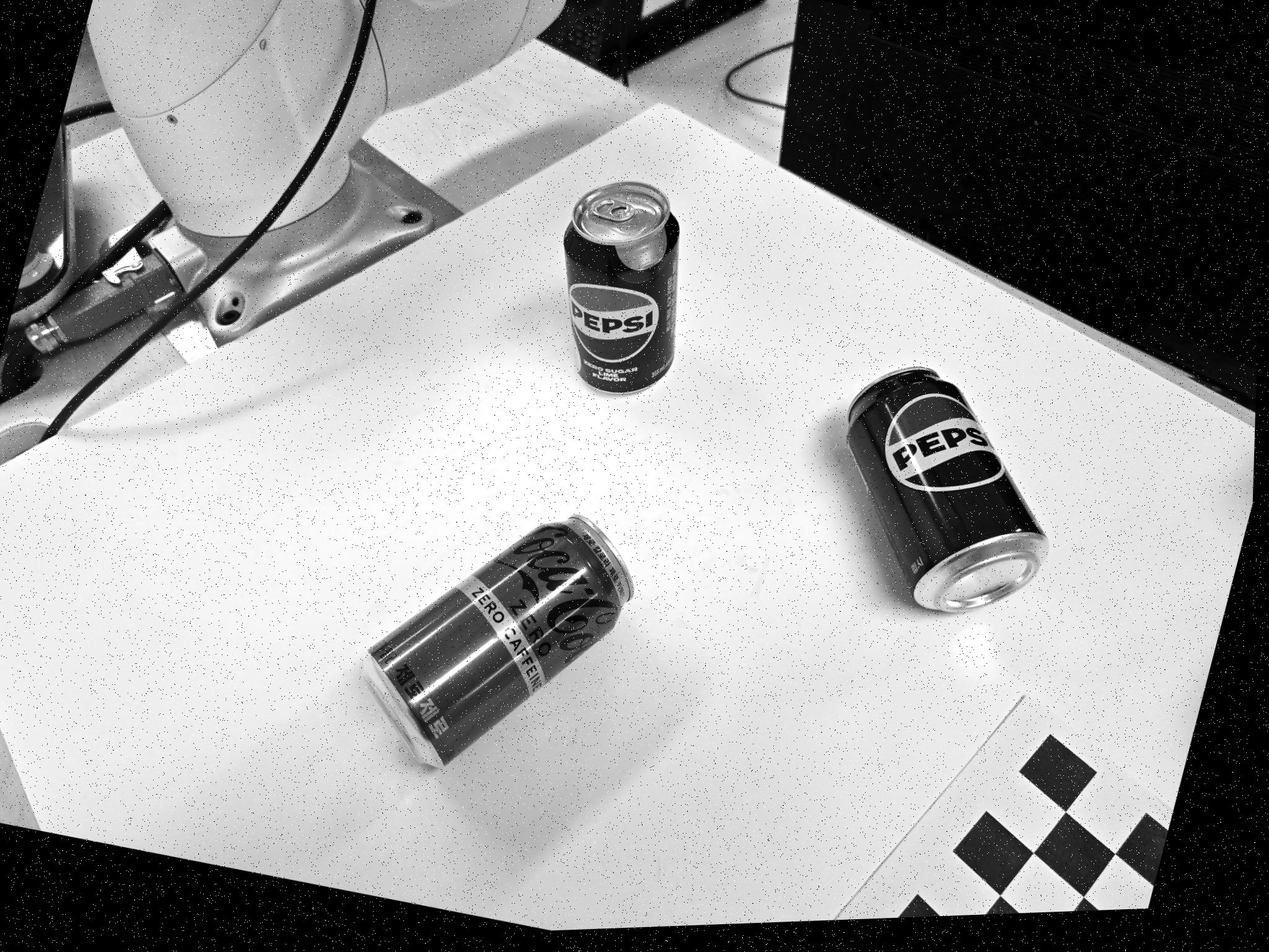can_coke_decaf: (361, 514, 634, 768)
can_pepsi: (846, 367, 1049, 612)
can_pepsi_zero: (562, 181, 680, 394)
